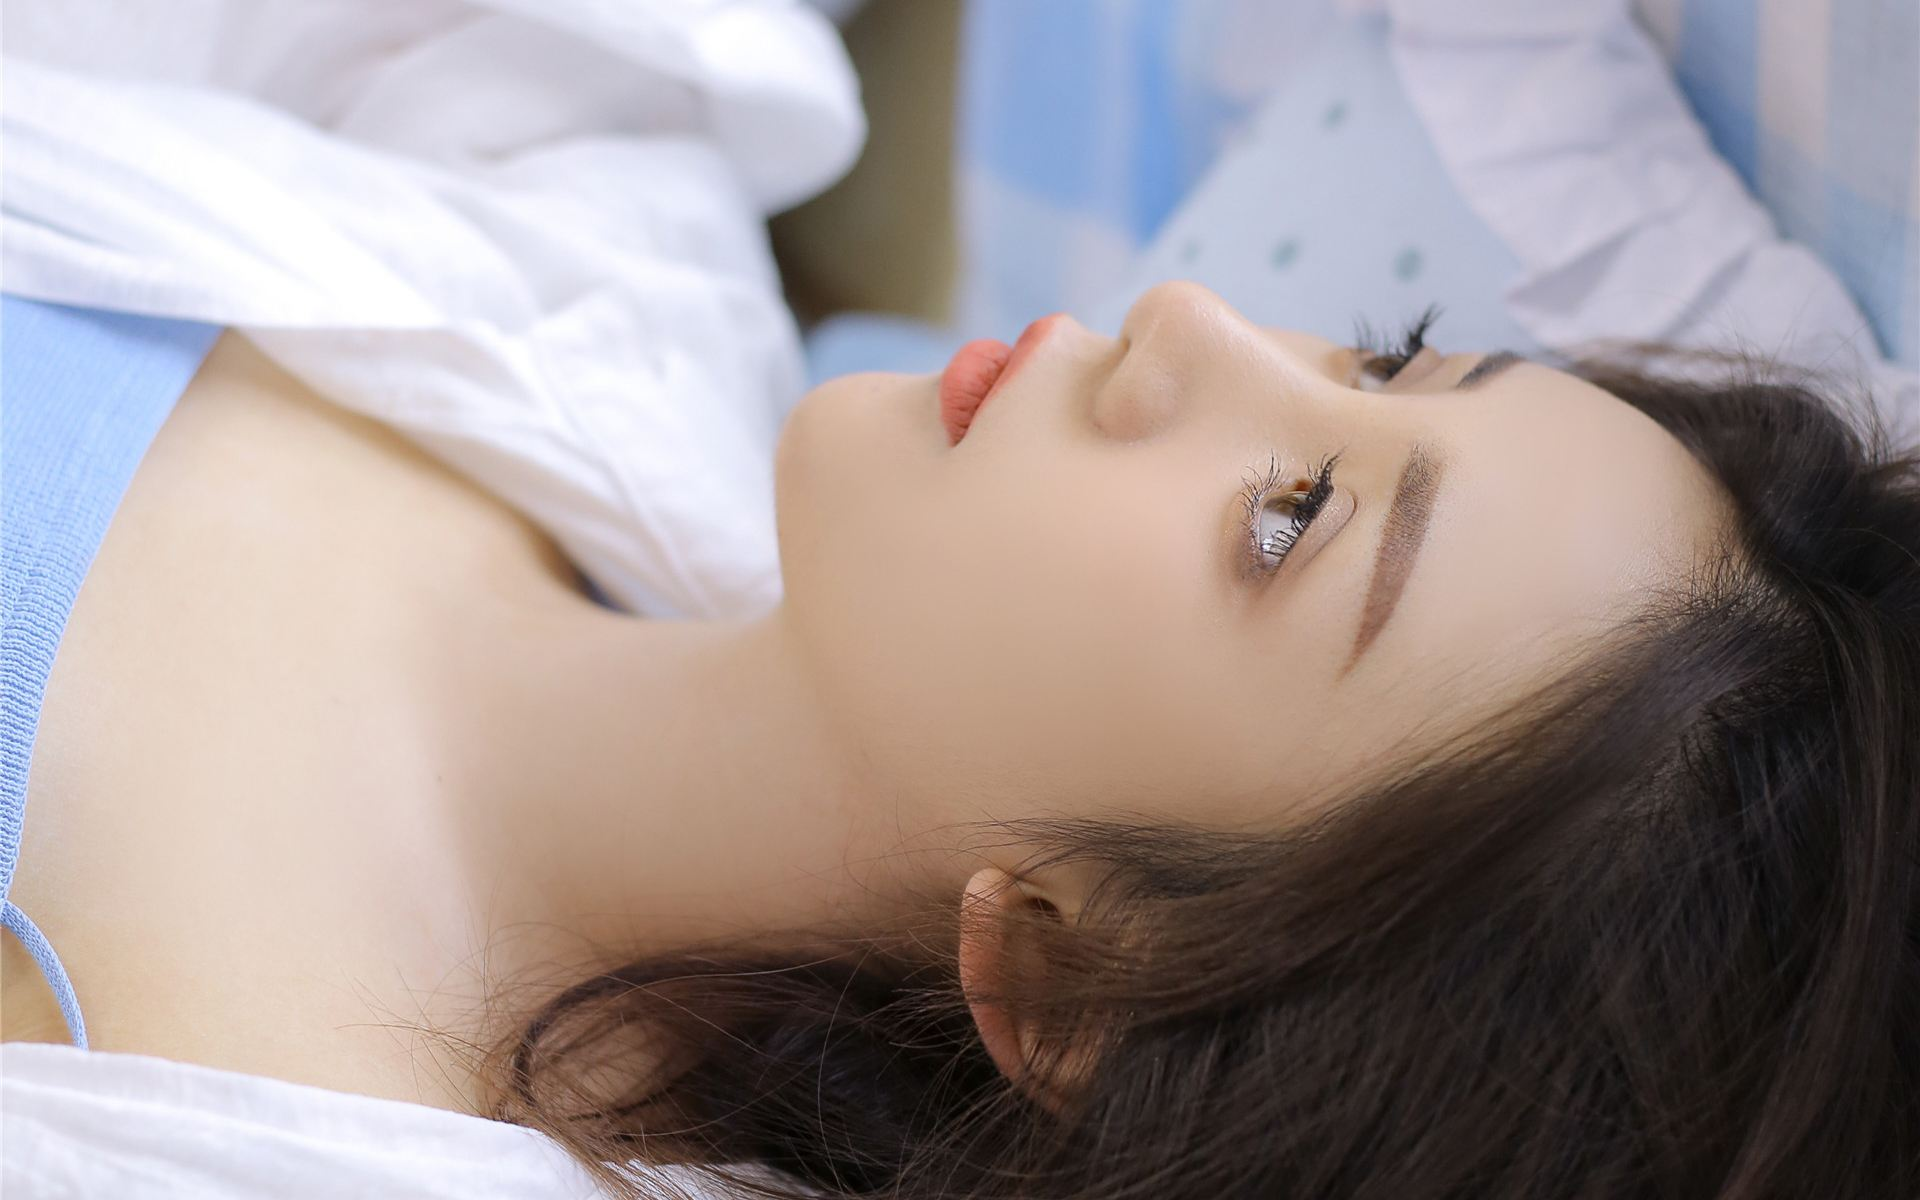person: (740, 135, 1811, 1031)
